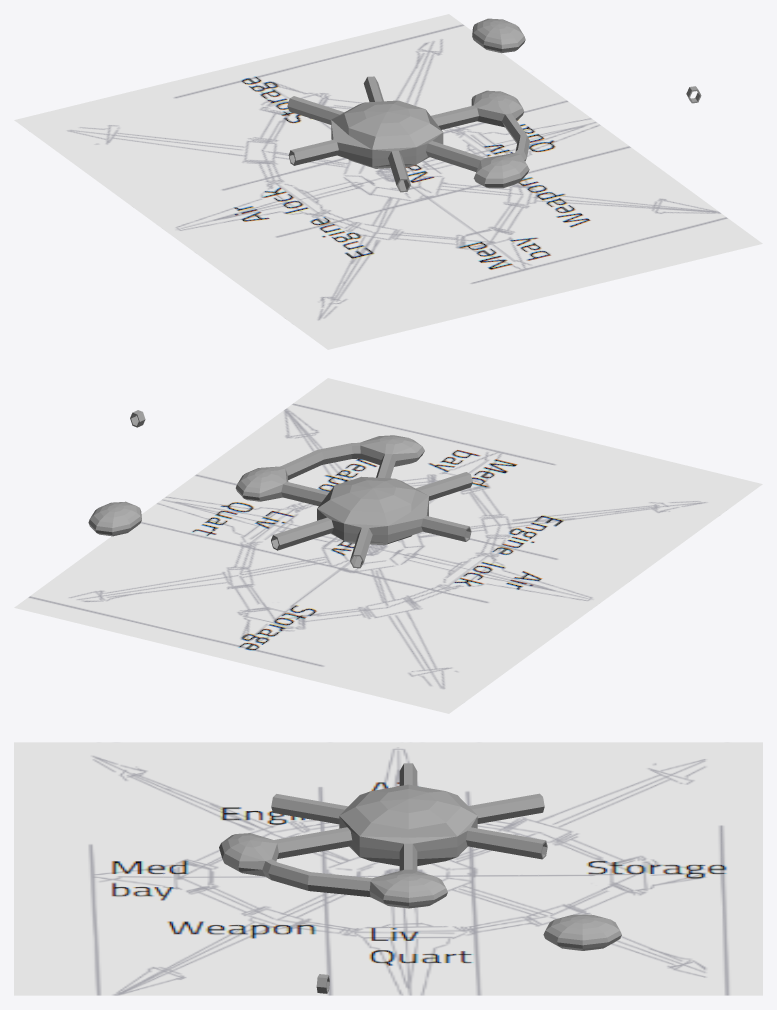
The model's file is OuterHallway1.fbx.
3 renders of one model, top to bottom at view 1: azimuth 30°, elevation 25°; view 2: azimuth 150°, elevation 25°; view 3: azimuth 270°, elevation 25°, orthographic. The views are drawn at different scales.
Visible parts, largest first — view 1: pPlane1, pCylinder78, pSphere9; view 2: pPlane1, pCylinder78, pSphere9; view 3: pPlane1, pCylinder78, pSphere9.
Part boxes in pixels (box(x1,y1,x2,y2)): pPlane1: box(14, 14, 762, 349); pCylinder78: box(287, 76, 529, 192); pSphere9: box(472, 18, 525, 53); pPlane1: box(14, 378, 762, 713); pCylinder78: box(235, 435, 472, 568); pSphere9: box(88, 501, 141, 536); pPlane1: box(14, 742, 762, 995); pCylinder78: box(219, 763, 547, 908); pSphere9: box(543, 914, 621, 950).
Bounding box in the file's own units: 138 × 24.2 × 150.
Materials: 3 (1 with a texture image).
